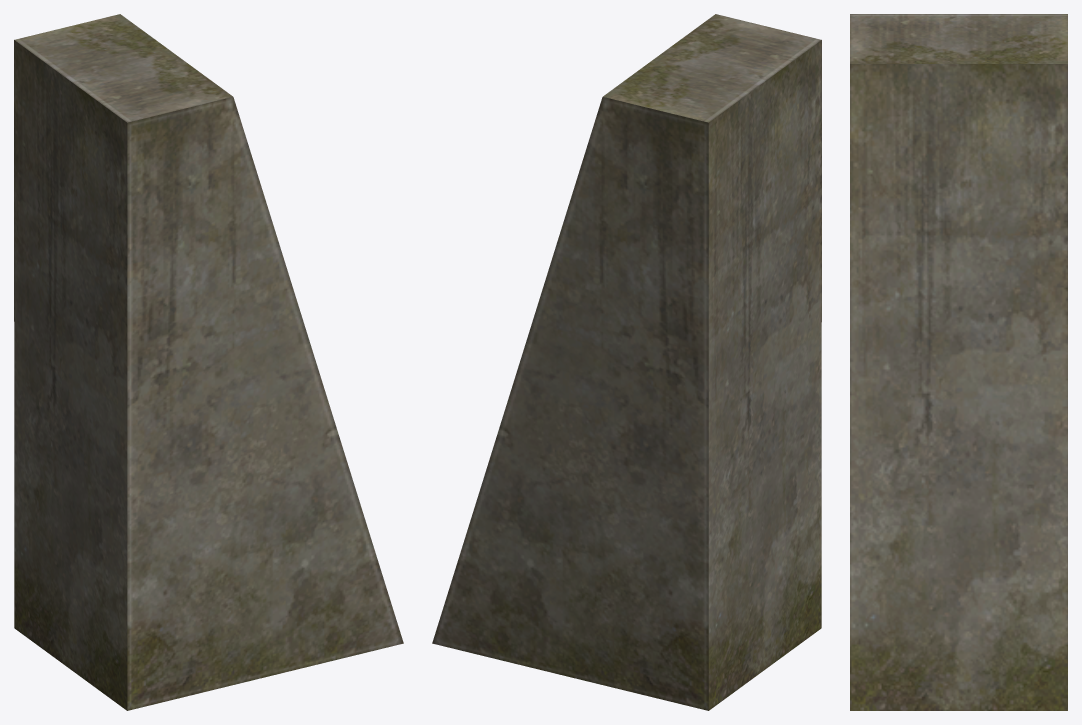
File: bg_anh_mirrorv_dam07_sm_old.FBX
3 renders of one model, left to right at view 1: azimuth 30°, elevation 25°; view 2: azimuth 150°, elevation 25°; view 3: azimuth 270°, elevation 25°, orthographic. The views are drawn at different scales.
Visible parts, largest first — view 1: bg_anh_mirrorv_dam07_sm_old; view 2: bg_anh_mirrorv_dam07_sm_old; view 3: bg_anh_mirrorv_dam07_sm_old.
Part boxes in pixels (x1=…): bg_anh_mirrorv_dam07_sm_old: x1=14, y1=14, x2=403, y2=710; bg_anh_mirrorv_dam07_sm_old: x1=432, y1=14, x2=821, y2=710; bg_anh_mirrorv_dam07_sm_old: x1=850, y1=14, x2=1067, y2=710.
Bounding box in the file's own units: 455 × 925 × 322.
